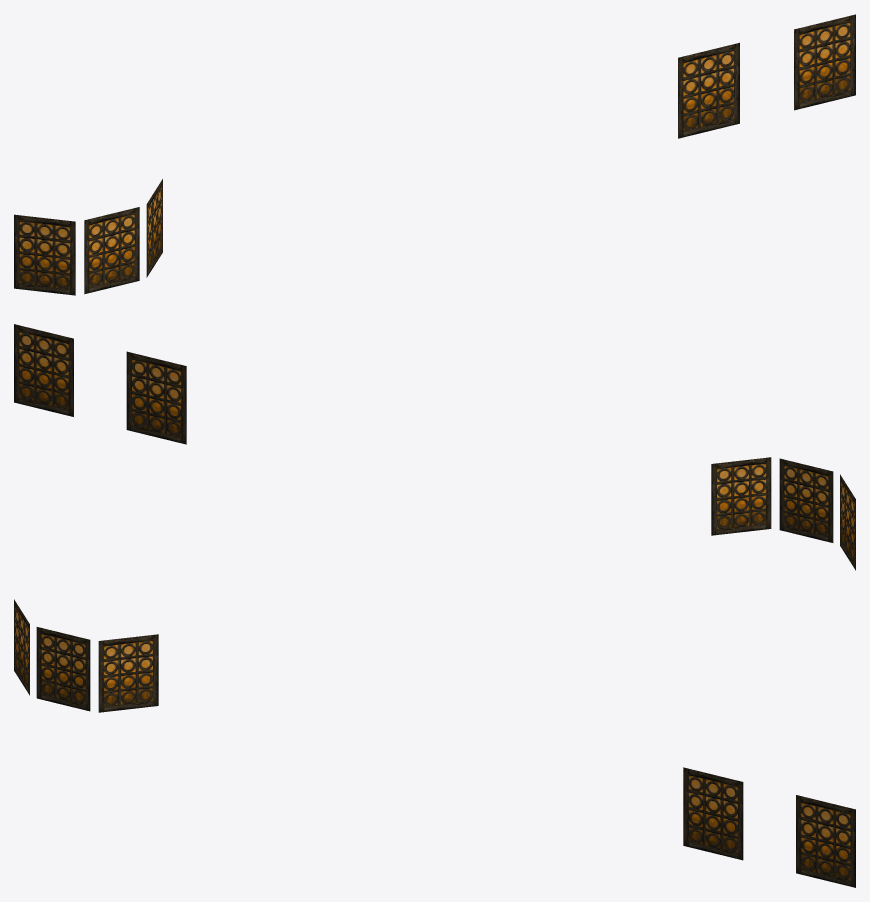
File: LAKETOWN_EXTERIOR_PS_LT_WINDOWS1881.fbx
3 renders of one model, top to bottom at view 1: azimuth 30°, elevation 25°; view 2: azimuth 150°, elevation 25°; view 3: azimuth 330°, elevation 25°, orthographic. The views are drawn at different scales.
Visible parts, largest first — view 1: LAKETOWN_EXTERIOR_PS_LT_WINDOWS1881; view 2: LAKETOWN_EXTERIOR_PS_LT_WINDOWS1881; view 3: LAKETOWN_EXTERIOR_PS_LT_WINDOWS1881.
Part boxes in pixels (<box>): LAKETOWN_EXTERIOR_PS_LT_WINDOWS1881: <box>14,14,855,295</box>; LAKETOWN_EXTERIOR_PS_LT_WINDOWS1881: <box>14,324,855,570</box>; LAKETOWN_EXTERIOR_PS_LT_WINDOWS1881: <box>14,599,855,887</box>.
Bounding box in the file's own units: 161892 × 17935 × 12054.
Materials: 1 (1 with a texture image).
